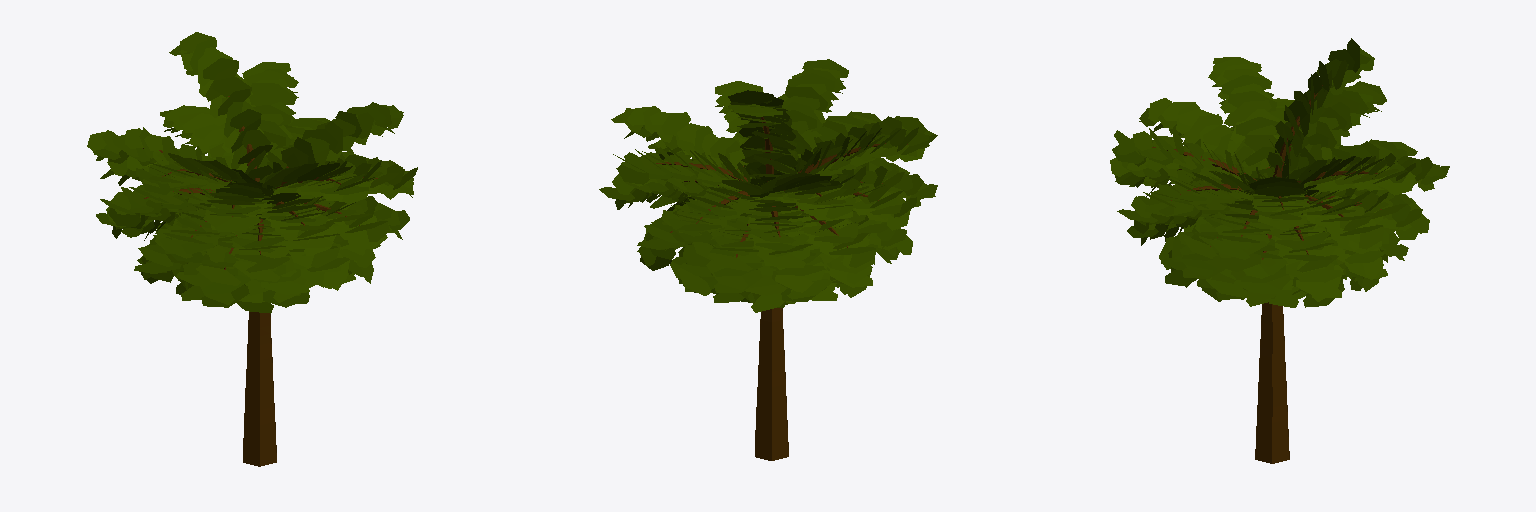
File: tropical_tree.obj
3 views of the same model, side by side, from view 1: azimuth 30°, elevation 25°; view 2: azimuth 150°, elevation 25°; view 3: azimuth 270°, elevation 25° (orthographic).
Parts seen in each view (by area): view 1: tropical_tree; view 2: tropical_tree; view 3: tropical_tree.
Boxes of the visible parts, x1,y1,x2,y2 form: tropical_tree: [87, 32, 417, 466]; tropical_tree: [599, 59, 937, 460]; tropical_tree: [1110, 38, 1449, 463].
Bounding box in the file's own units: 5.8 × 7.52 × 5.8.